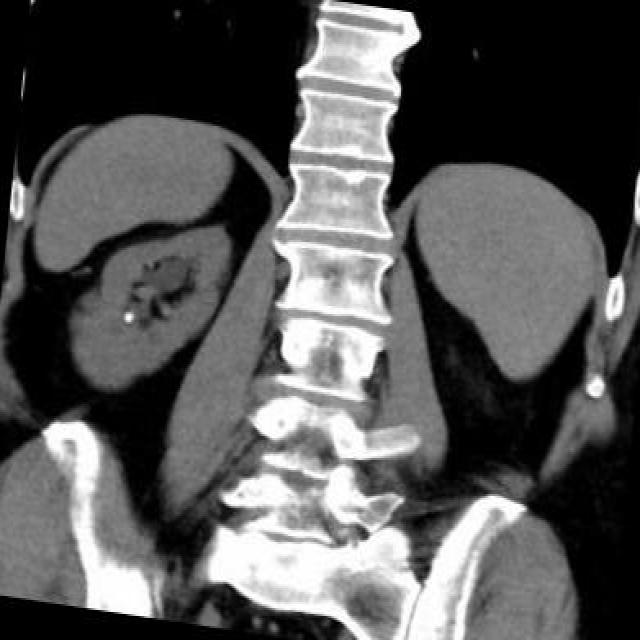Tas_Var: (120, 310, 138, 324)
